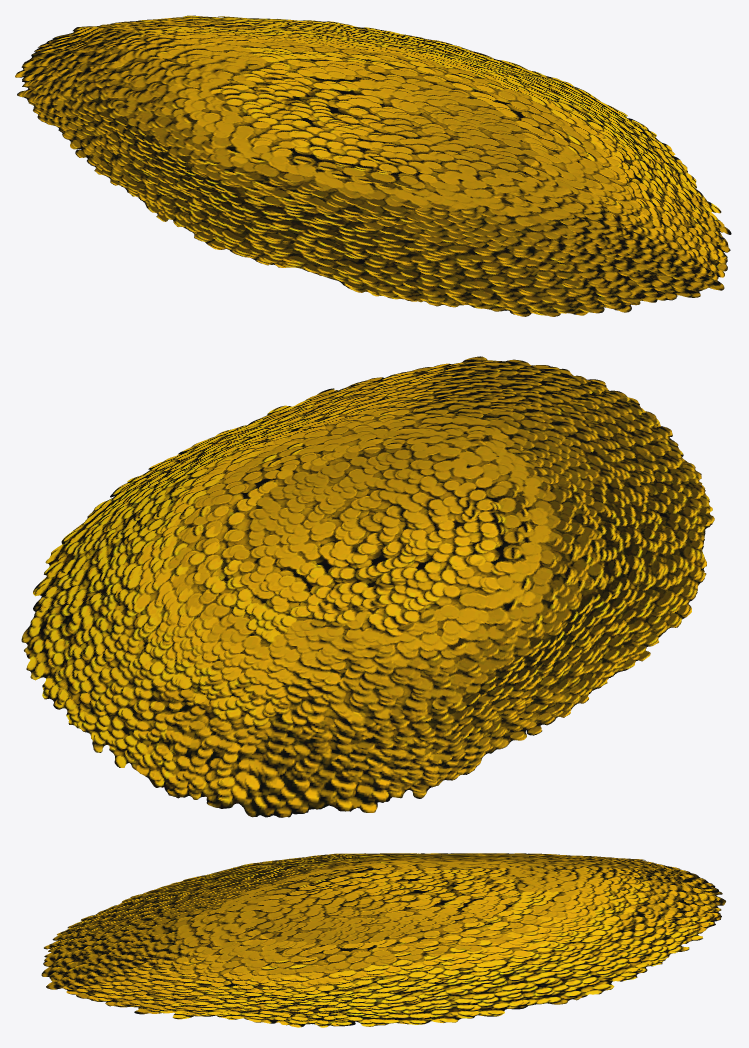
The model's file is INST_SM_GOLDPILE_SMALLA.fbx.
3 renders of one model, top to bottom at view 1: azimuth 30°, elevation 25°; view 2: azimuth 150°, elevation 25°; view 3: azimuth 270°, elevation 25°, orthographic. The views are drawn at different scales.
Visible parts, largest first — view 1: INST_SM_GOLDPILE_SMALLA; view 2: INST_SM_GOLDPILE_SMALLA; view 3: INST_SM_GOLDPILE_SMALLA.
Boxes of the visible parts, x1=… form: INST_SM_GOLDPILE_SMALLA: x1=15, y1=15, x2=731, y2=316; INST_SM_GOLDPILE_SMALLA: x1=21, y1=356, x2=714, y2=817; INST_SM_GOLDPILE_SMALLA: x1=41, y1=853, x2=725, y2=1027.
Size of the model in its own units: 40000 by 3810 by 67500.
Materials: 1 (1 with a texture image).
